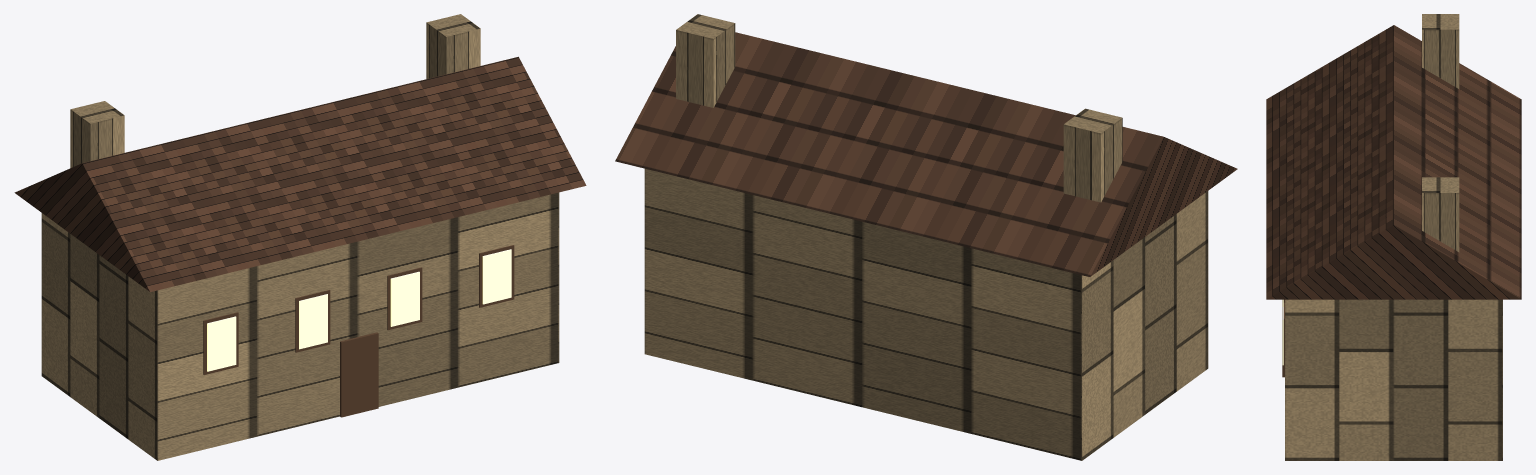
File: manor.glb
3 renders of one model, left to right at view 1: azimuth 30°, elevation 25°; view 2: azimuth 150°, elevation 25°; view 3: azimuth 270°, elevation 25°, orthographic. The views are drawn at different scales.
Parts seen in each view (by area): view 1: Walls, Roof, Door, Chimney, Chimney.001, Window.002, Window, Window.003, Window.001, WindowFrame.003, WindowFrame.002, WindowFrame.001 (+1 smaller); view 2: Walls, Roof, Chimney, Chimney.001; view 3: Roof, Walls, Chimney.001, Chimney.
Boxes of the visible parts, <box> form: Walls: <box>41,192,559,460</box>; Roof: <box>14,56,586,291</box>; Door: <box>340,332,378,417</box>; Chimney: <box>70,101,124,168</box>; Chimney.001: <box>426,14,480,78</box>; Window.002: <box>390,271,419,326</box>; Window: <box>207,316,236,371</box>; Window.003: <box>482,249,511,304</box>; Window.001: <box>299,294,327,349</box>; WindowFrame.003: <box>479,245,514,307</box>; WindowFrame.002: <box>387,267,422,330</box>; WindowFrame.001: <box>295,290,330,352</box>; Walls: <box>644,168,1208,460</box>; Roof: <box>615,32,1237,276</box>; Chimney: <box>1063,108,1122,202</box>; Chimney.001: <box>676,14,735,107</box>; Roof: <box>1266,25,1521,299</box>; Walls: <box>1285,299,1502,460</box>; Chimney.001: <box>1422,177,1459,252</box>; Chimney: <box>1422,14,1459,88</box>.
Bounding box in the file's own units: 15.2 × 9.4 × 8.2.
Materials: 4 (2 with a texture image).
